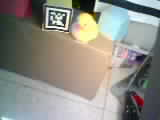duck: (71, 9, 102, 43)
